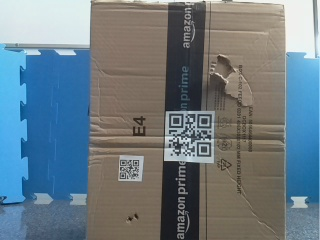caja_rota: (91, 1, 285, 240)
